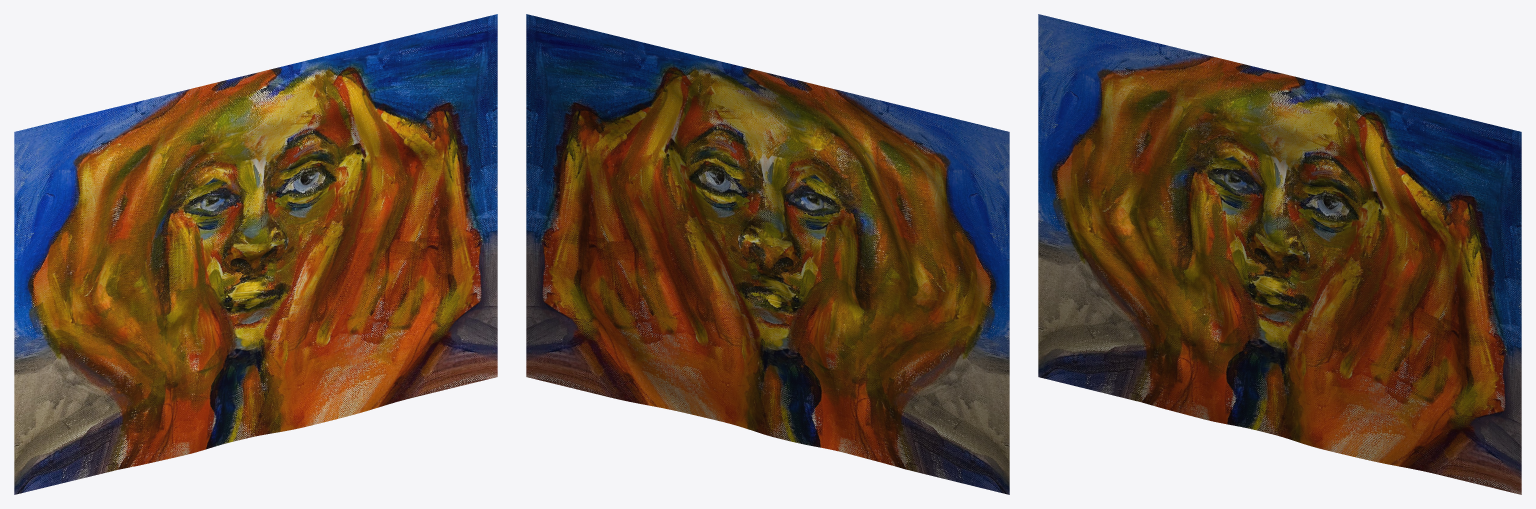
Rendered from artHead3.gltf.
3 views of the same model, side by side, from view 1: azimuth 30°, elevation 25°; view 2: azimuth 150°, elevation 25°; view 3: azimuth 330°, elevation 25° (orthographic).
Visible parts, largest first — view 1: Grid; view 2: Grid; view 3: Grid.
Part boxes in pixels (left/top/right/bottom): Grid: left=14, top=14, right=497, bottom=494; Grid: left=526, top=14, right=1009, bottom=494; Grid: left=1038, top=14, right=1521, bottom=494.
Size of the model in its own units: 1.13 by 0.8112 by 0.0248.
Materials: 1 (1 with a texture image).
